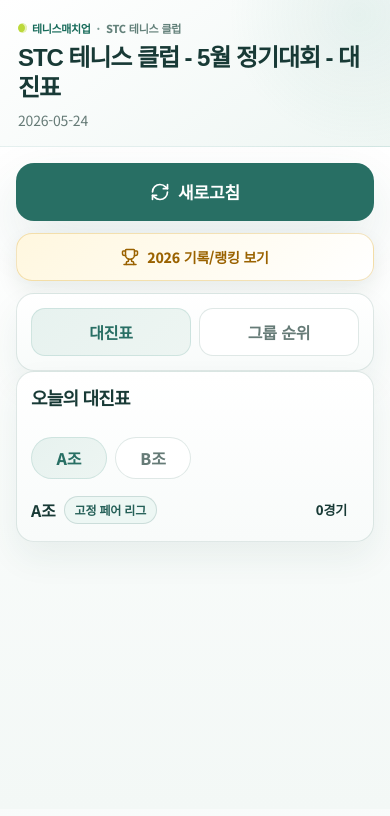
Test: PublicTournamentView auto refresh › removes overall ranking and renders team standings when a fixed pair league exists
This screenshot has width=390, height=816.
Expected: the text with class "group-format-badge" reads "고정 페어 리그", [75, 501, 146, 518]
What coordinates should you click on to do the following:
click the tab "그룹 순위"
I would click on:
 (279, 332)
Its box is [199, 308, 359, 356].
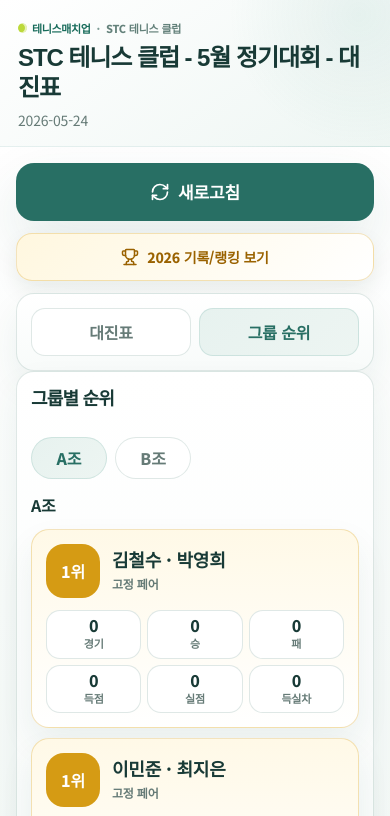
Expected: the number of buttons with class "group-tab" is 2, [31, 437, 107, 479]; [115, 437, 191, 479]
Expected: the element with class "team-ranking-stat-grid" showing "0 경기 0 승 0 패 0 득점 0 실점 0 득실차" is shown, [46, 610, 344, 713]
